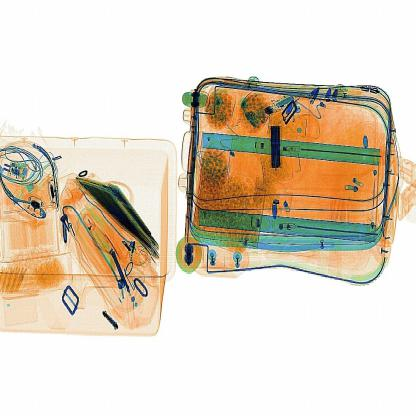scissors: (264, 116, 301, 182)
